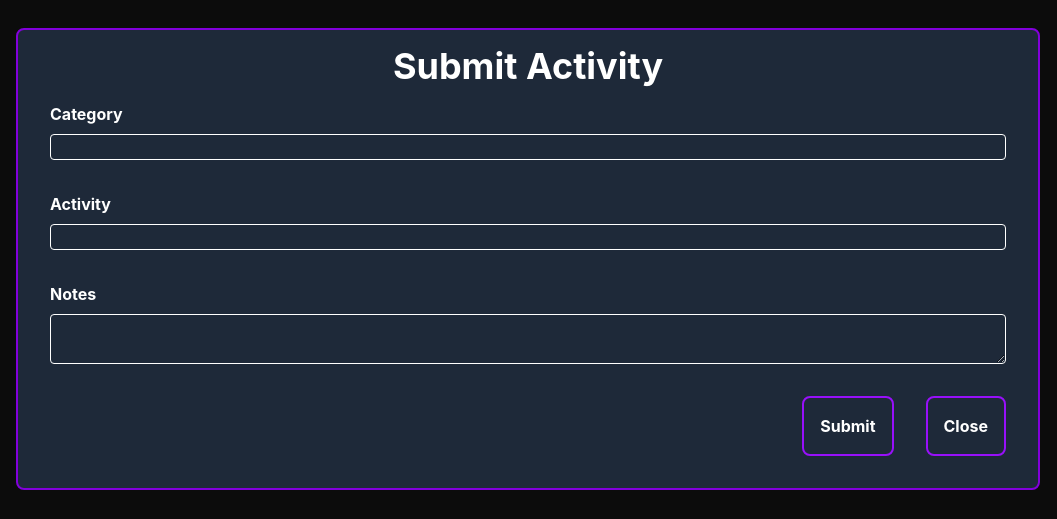
ActivityForm › surfaces an error message when the submission fails
This screenshot has width=1057, height=519.
Type "Fitness" into the field labelled "Category".
click(528, 147); type("Fitness")  # box [50,134,1006,160]
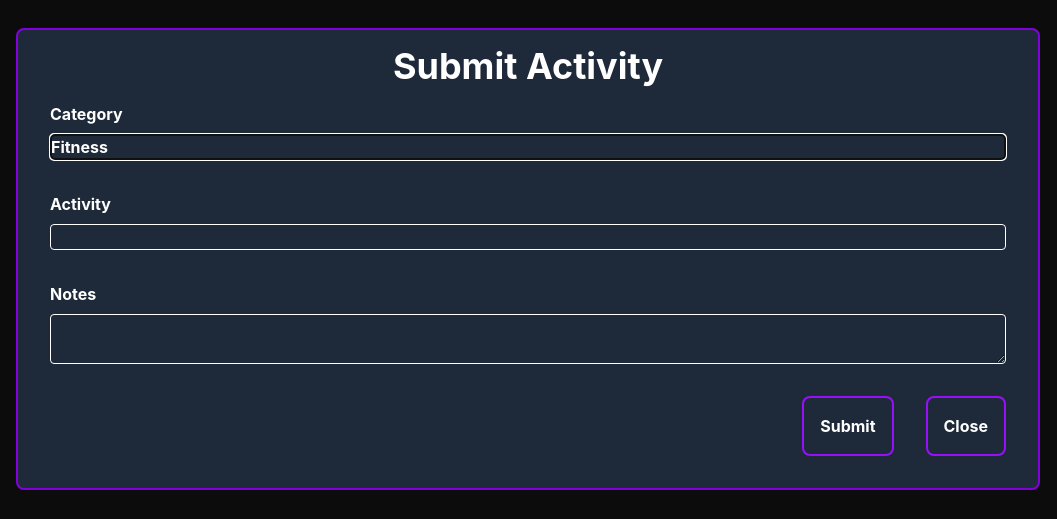
Type "Run" into the field labelled "Activity".
click(528, 237); type("Run")  # box [50,224,1006,250]
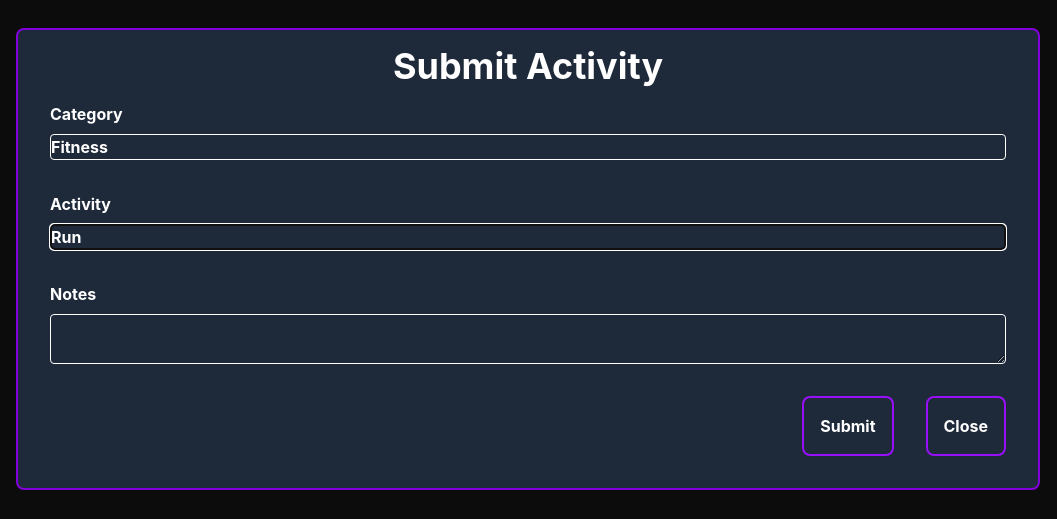
Click the button "Submit".
click(848, 426)  # box [802,396,894,456]
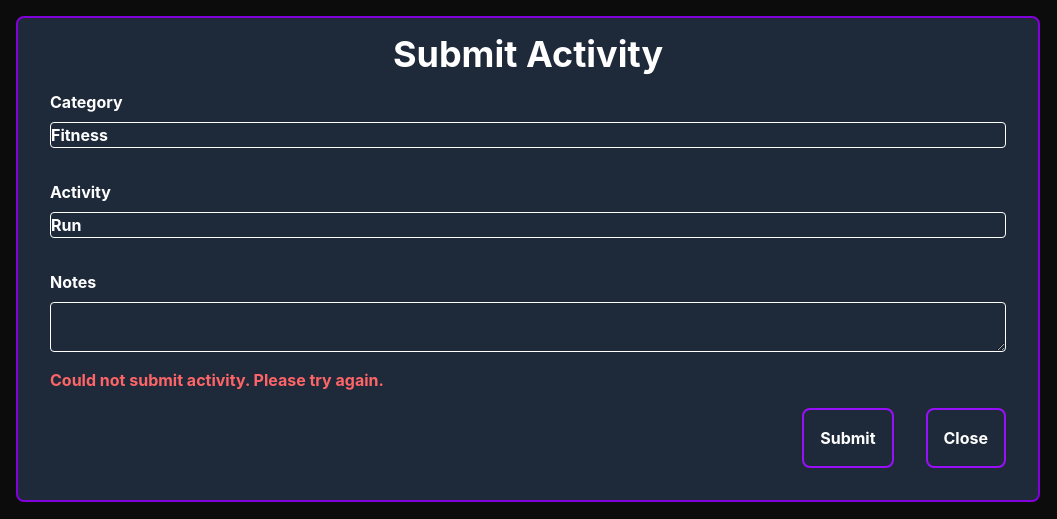
Check: the message shows "Could not submit activity", box [50,370,384,390]
